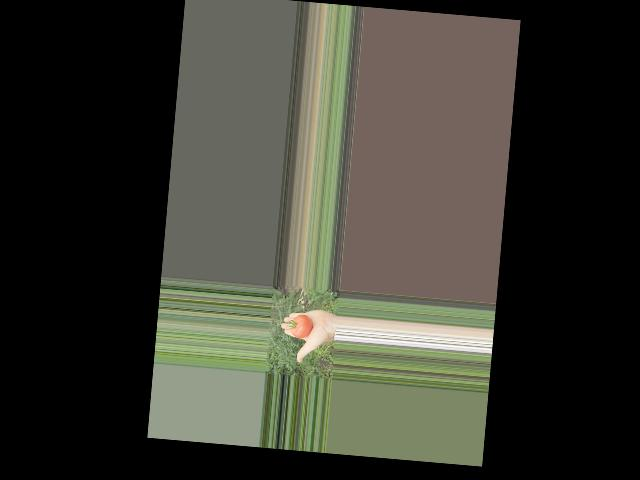tomato: (290, 313, 313, 338)
